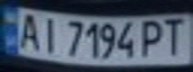1: (81, 19, 103, 58)
4: (115, 19, 142, 58)
7: (60, 18, 84, 56)
9: (96, 20, 121, 60)
A: (15, 10, 42, 51)
I: (36, 15, 63, 53)
P: (136, 17, 169, 57)
T: (157, 16, 190, 56)
